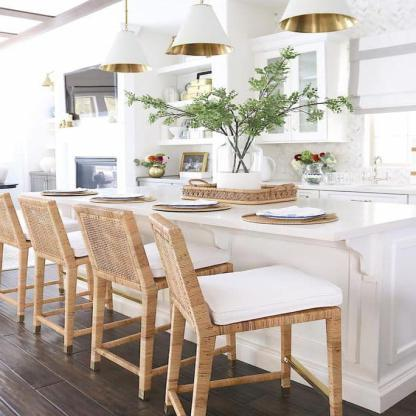chair: (144, 214, 348, 416), (79, 196, 162, 403), (14, 194, 85, 355), (0, 194, 30, 329)
door: (54, 62, 123, 193)
light: (96, 2, 154, 76), (164, 4, 232, 62), (280, 0, 356, 38)
table: (0, 184, 414, 414)
